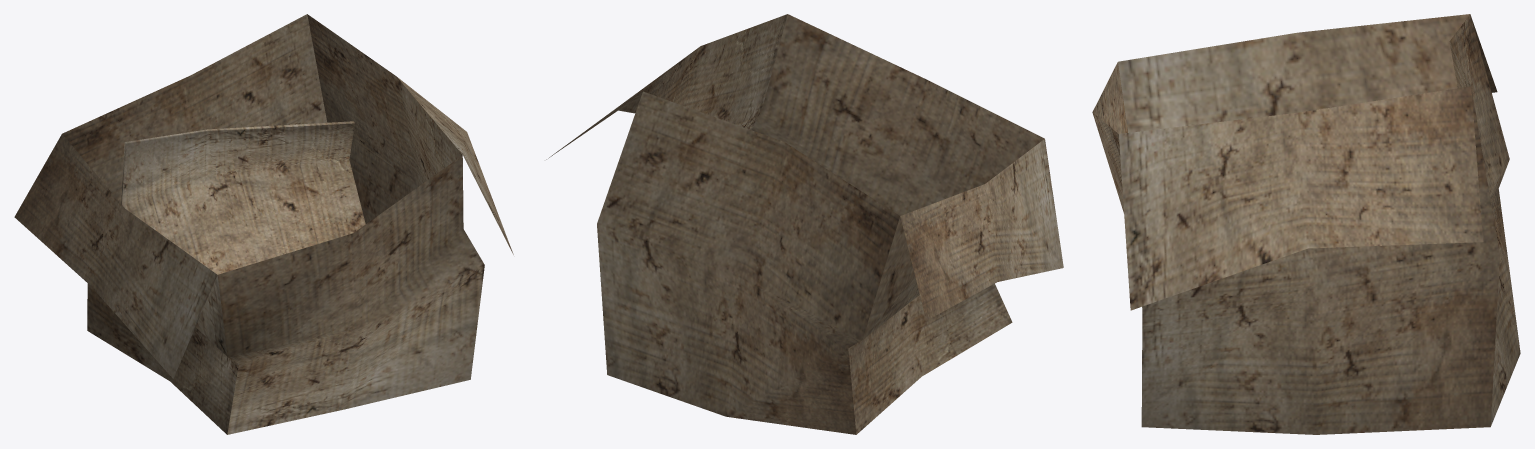
File: Garbage1_11.fbx
3 renders of one model, left to right at view 1: azimuth 30°, elevation 25°; view 2: azimuth 150°, elevation 25°; view 3: azimuth 270°, elevation 25°, orthographic. The views are drawn at different scales.
Parts seen in each view (by area): view 1: polySurface37; view 2: polySurface37; view 3: polySurface37.
Boxes of the visible parts, x1,y1,x2,y2 form: polySurface37: (14, 14, 513, 434); polySurface37: (546, 14, 1063, 434); polySurface37: (1092, 14, 1520, 434).
Size of the model in its own units: 3.36 by 2.33 by 2.78.
